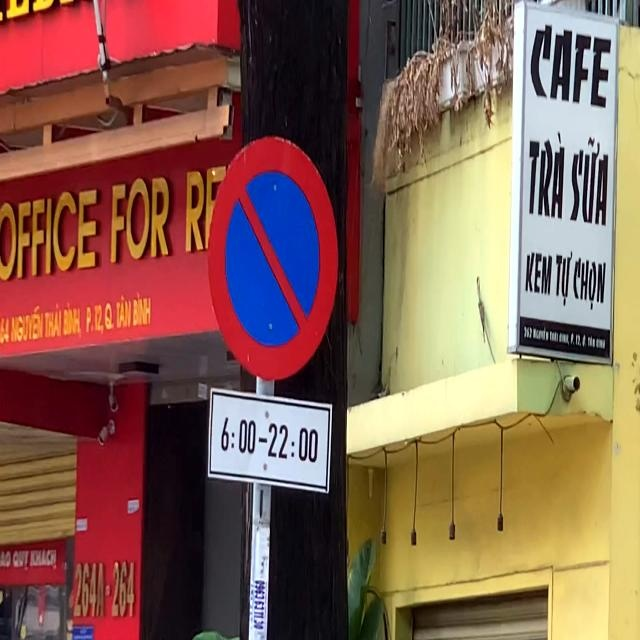bien_cam: (208, 136, 339, 382)
